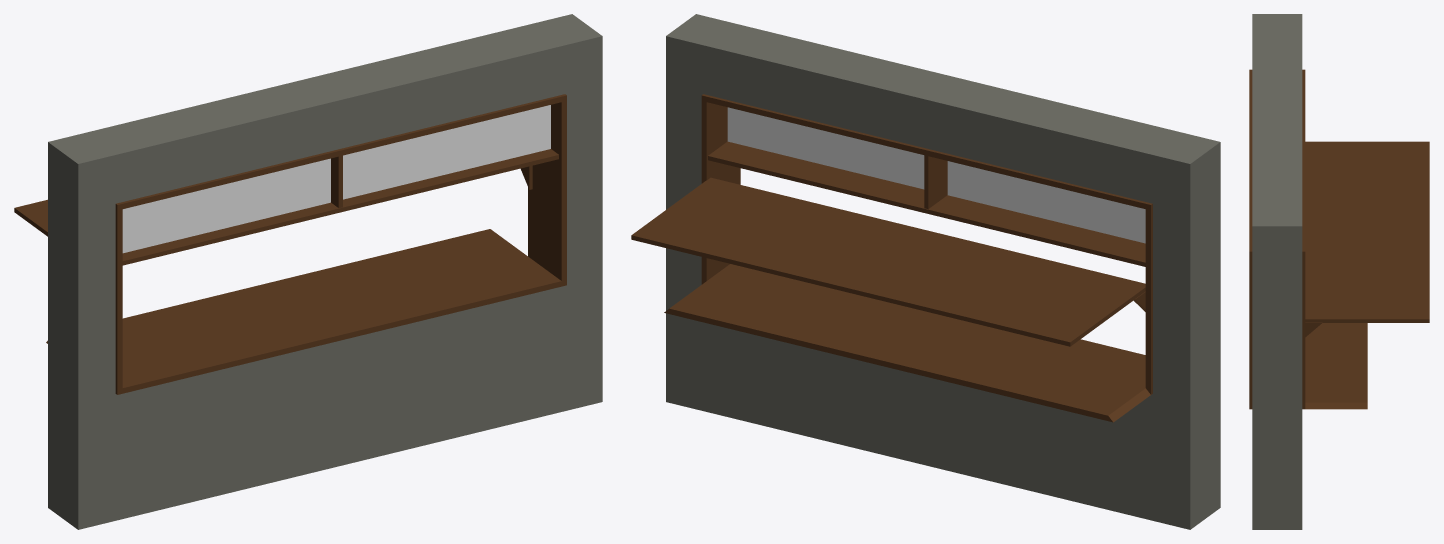
File: Counter.fbx
The picture shows the model from 3 angles, left to right: view 1: azimuth 30°, elevation 25°; view 2: azimuth 150°, elevation 25°; view 3: azimuth 270°, elevation 25°; orthographic projection. The views are drawn at different scales.
Visible parts, largest first — view 1: Cube.038; view 2: Cube.038; view 3: Cube.038.
Part boxes in pixels (x1,y1,x2,y2): Cube.038: (14, 14, 602, 529); Cube.038: (631, 14, 1220, 529); Cube.038: (1249, 14, 1429, 529).
Bounding box in the file's own units: 600 × 400 × 216.
